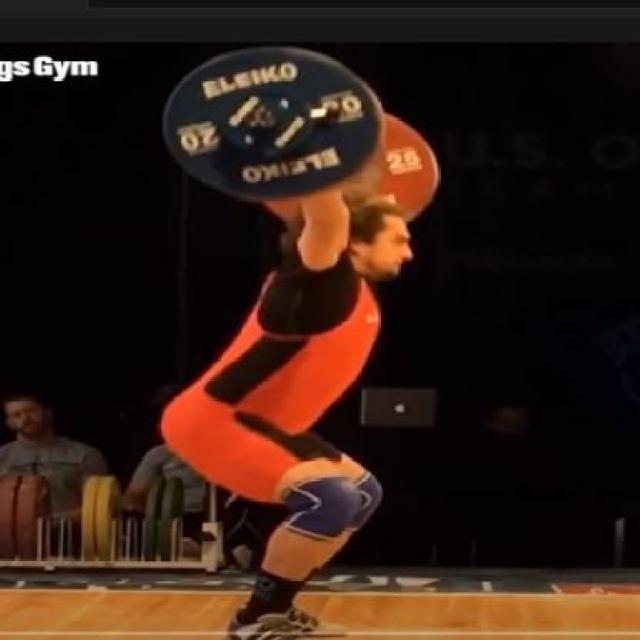barbell: (164, 44, 386, 207)
